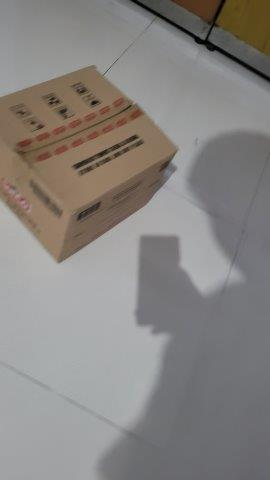kardus: (1, 65, 179, 263)
